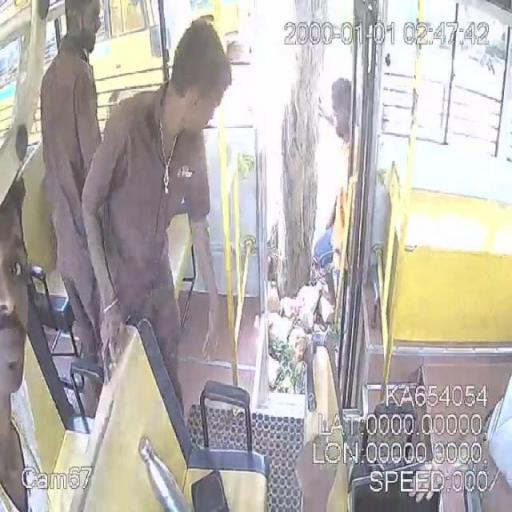persona: (79, 18, 234, 418), (38, 1, 108, 394), (323, 76, 393, 334)
